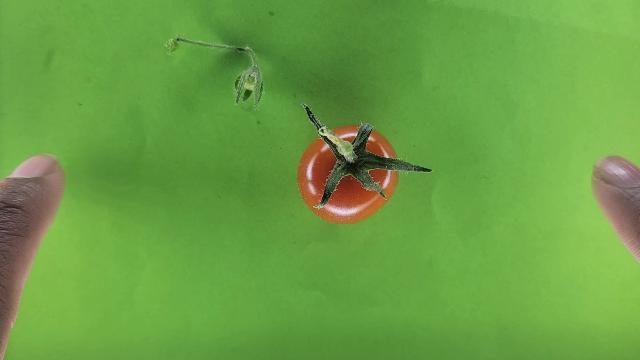Fruit Bud: (233, 47, 264, 111), (238, 74, 257, 96)
Fully Grown: (296, 125, 401, 225)
